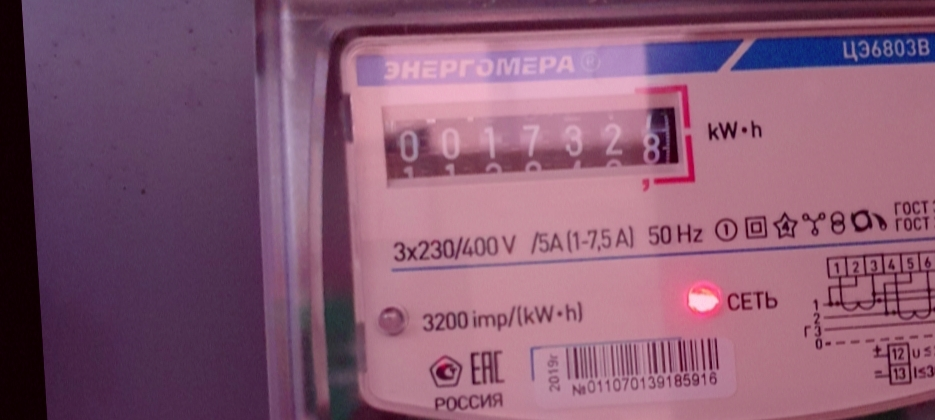0: (397, 126, 421, 164), (438, 125, 461, 160)
1: (481, 123, 498, 160)
2: (600, 121, 623, 158)
3: (560, 122, 585, 158)
7: (518, 120, 544, 159)
8: (639, 130, 660, 166)
screen: (371, 84, 699, 205)
